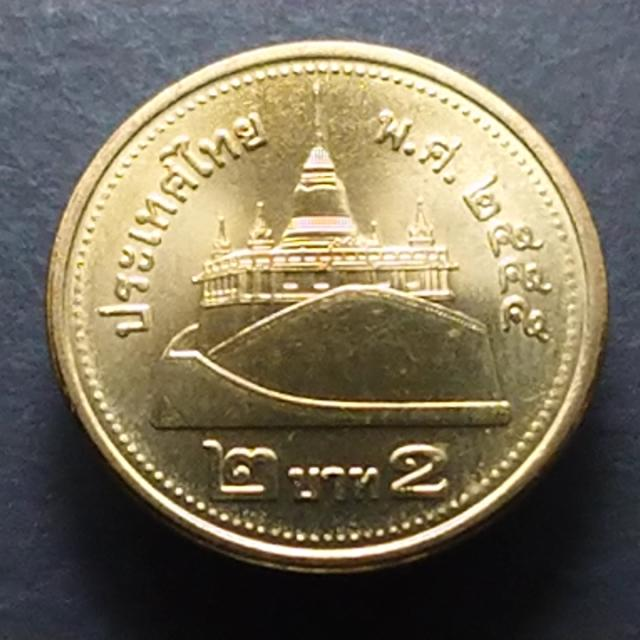2 Bath: (50, 38, 612, 579)
